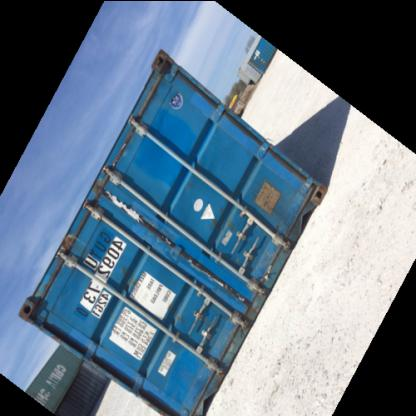Damage: (98, 188, 152, 224), (294, 168, 322, 212), (220, 303, 244, 342), (246, 252, 279, 280), (113, 136, 129, 169)
